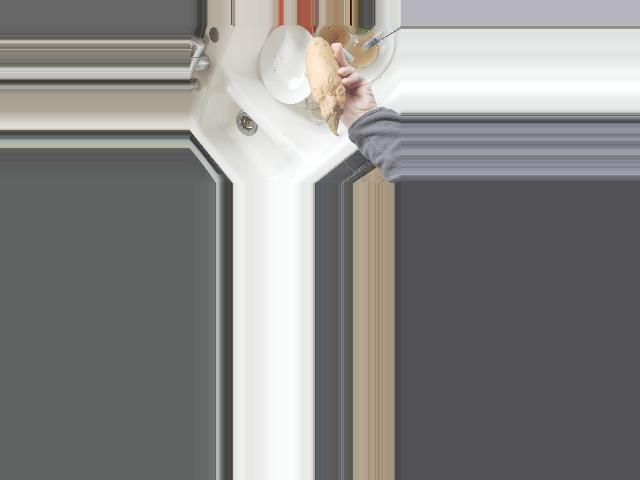sweet_potato: (302, 37, 345, 136)
